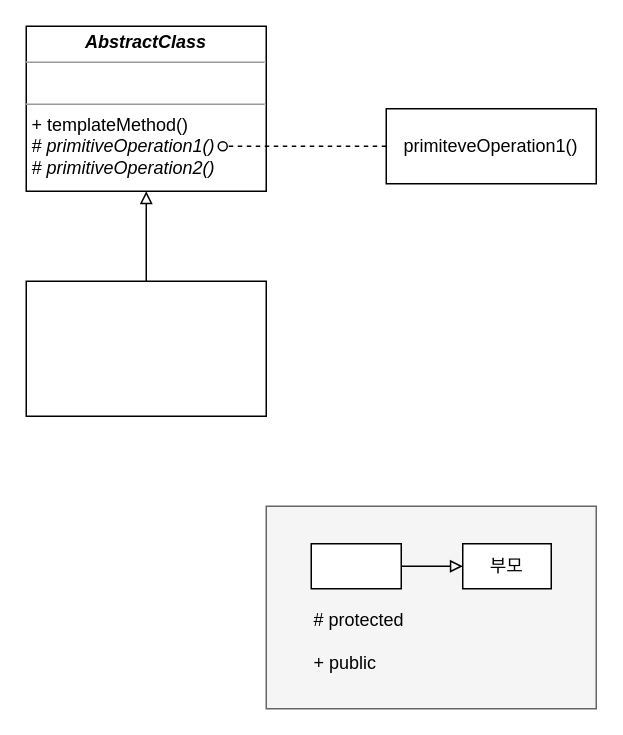
Image size: 623x735. Some labels were removed from this diagram. Here are the shapes that lost their labels. From the top down, the box of each, then its label:
(25, 280, 266, 416): ConcreteClass # primitiveOperation1() # primitiveOperation2()
(310, 542, 401, 589): 자식
